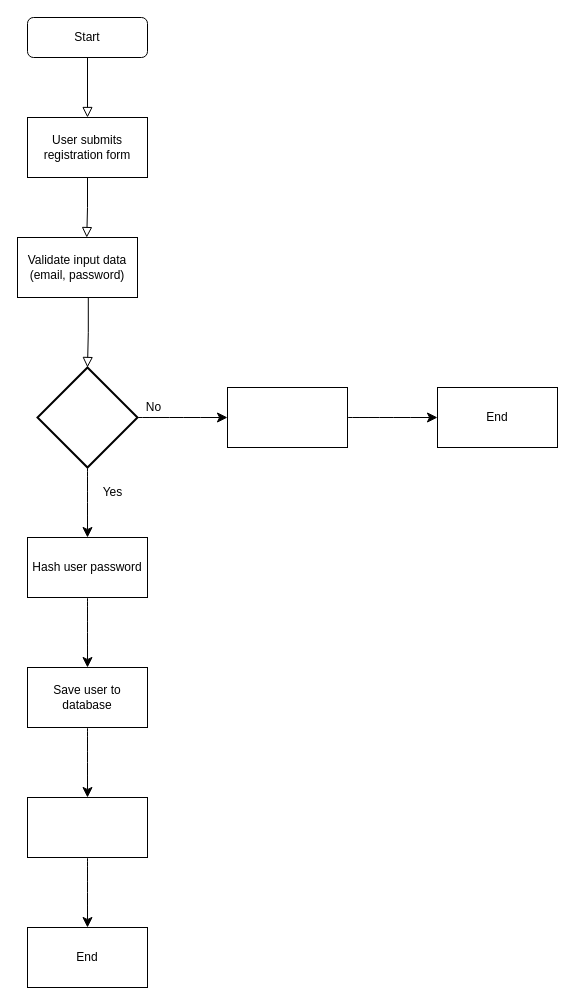
Some shapes in this 575 by 1005 pixel diagram are drawn without their labels. The shapes that lost their labels are listed below. From the top down, each one's centre as x and y in pixels, then its label:
point 87,417: Is email valid?
point 287,417: Show error message
point 87,827: Send confirmation email
